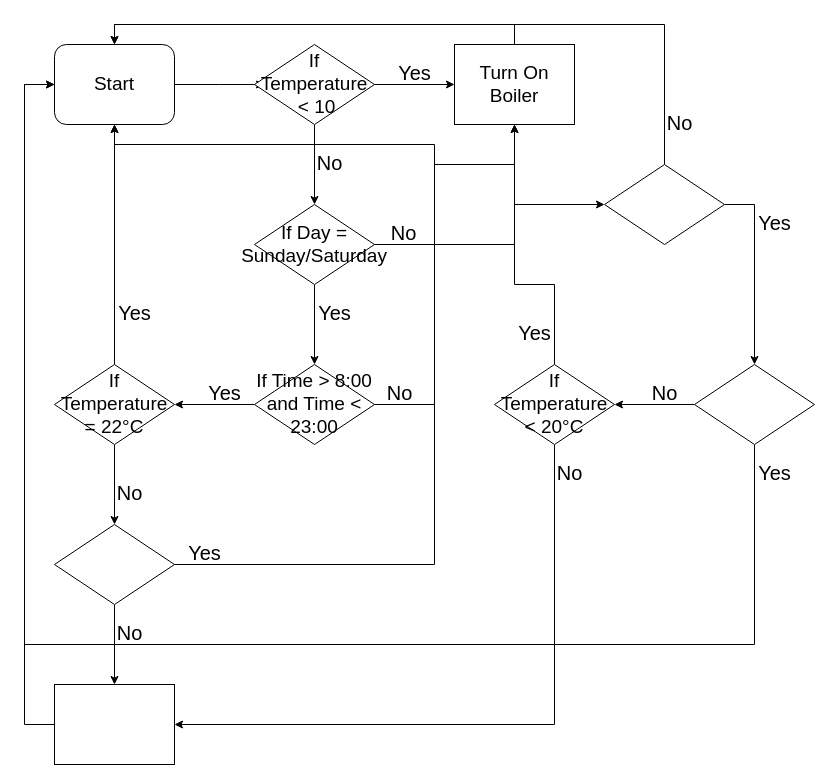
This 832x782 diagram has some shape labels left out. The centre of each missing label's shape, as x and y in pixels:
If Temperature = 20°C: pixel 754 404
If Temperature > 22°C: pixel 114 564
If Time > 6:00 and Time < 8:30 or Time > 17:30 and Time < 22:00: pixel 664 204
Turn Off Boiler: pixel 114 724
